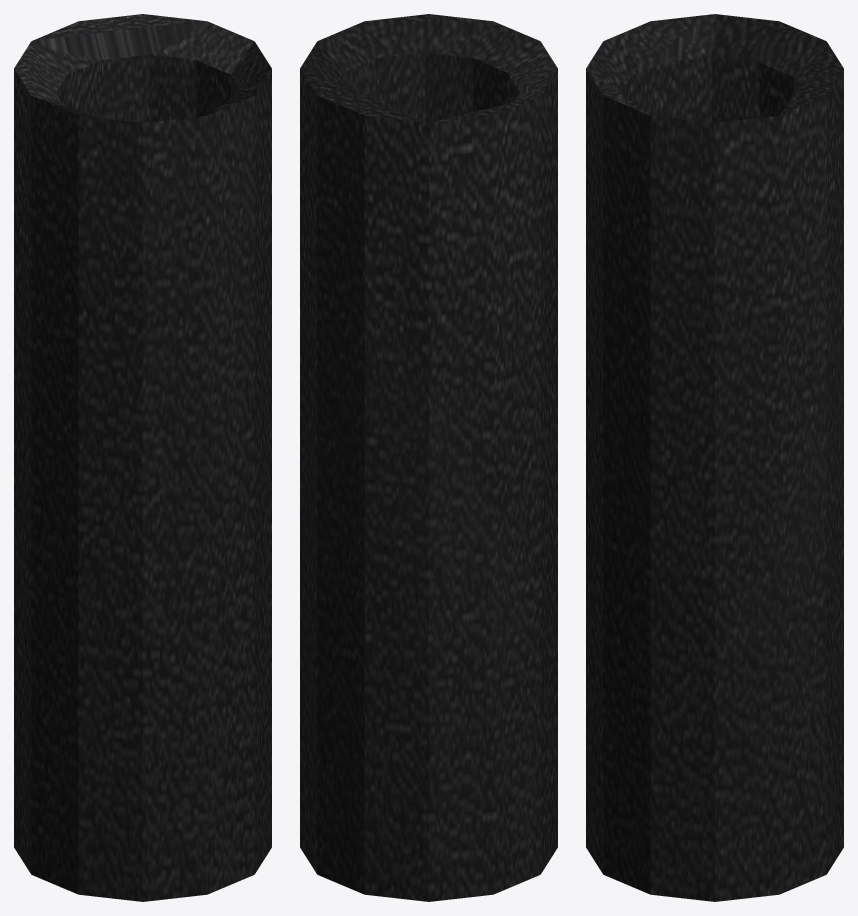
The model's file is PVC3inchTube.fbx.
3 renders of one model, left to right at view 1: azimuth 30°, elevation 25°; view 2: azimuth 150°, elevation 25°; view 3: azimuth 270°, elevation 25°, orthographic.
Parts seen in each view (by area): view 1: Cylinder; view 2: Cylinder; view 3: Cylinder.
Boxes of the visible parts, <box> form: Cylinder: <box>14,14,271,901</box>; Cylinder: <box>300,14,557,901</box>; Cylinder: <box>586,14,843,901</box>.
Bounding box in the file's own units: 0.15 × 0.5 × 0.15.
Materials: 2 (2 with a texture image).
